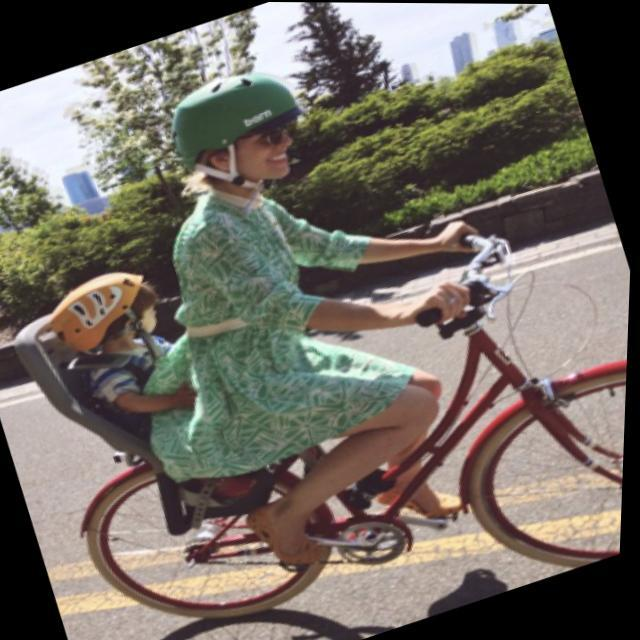Helmet: (163, 70, 303, 196), (33, 263, 163, 368)
